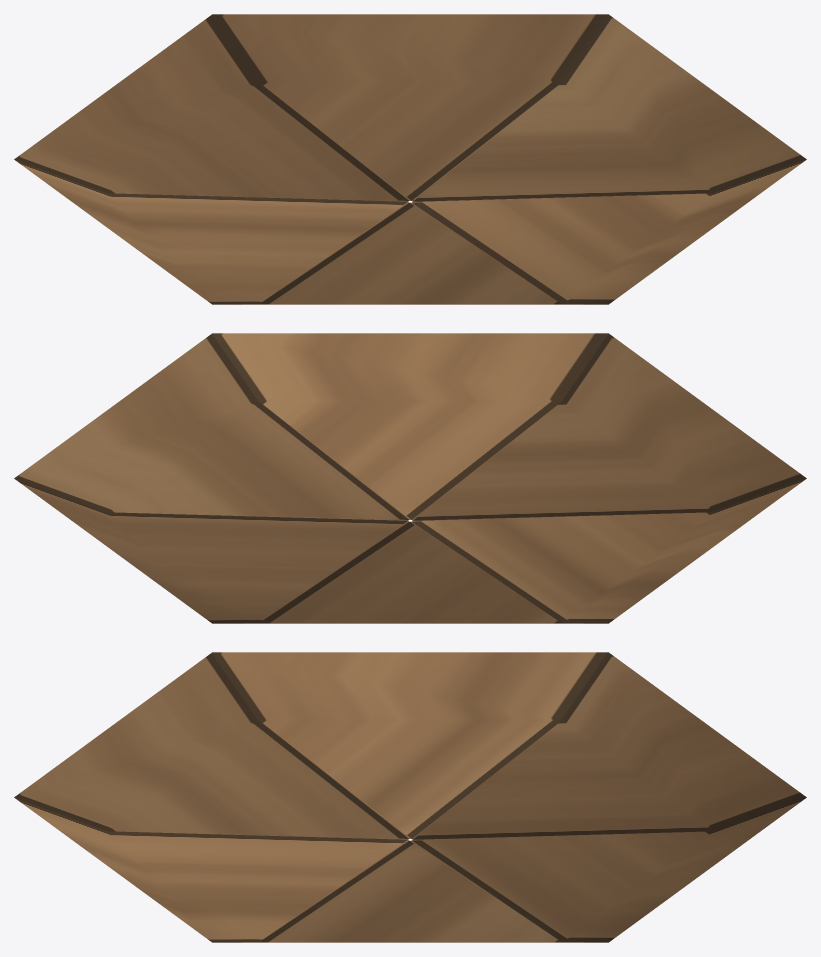
Rendered from Table_Plate_LOD2.gltf.
The picture shows the model from 3 angles, top to bottom: view 1: azimuth 30°, elevation 25°; view 2: azimuth 150°, elevation 25°; view 3: azimuth 270°, elevation 25°; orthographic projection.
Visible parts, largest first — view 1: Table_Plate_LOD2; view 2: Table_Plate_LOD2; view 3: Table_Plate_LOD2.
Part boxes in pixels (x1,y1,x2,y2): Table_Plate_LOD2: [14, 14, 806, 304]; Table_Plate_LOD2: [14, 333, 806, 623]; Table_Plate_LOD2: [14, 652, 806, 942].
Bounding box in the file's own units: 0.2944 × 0.02 × 0.34.
1 material, 1 textured.
